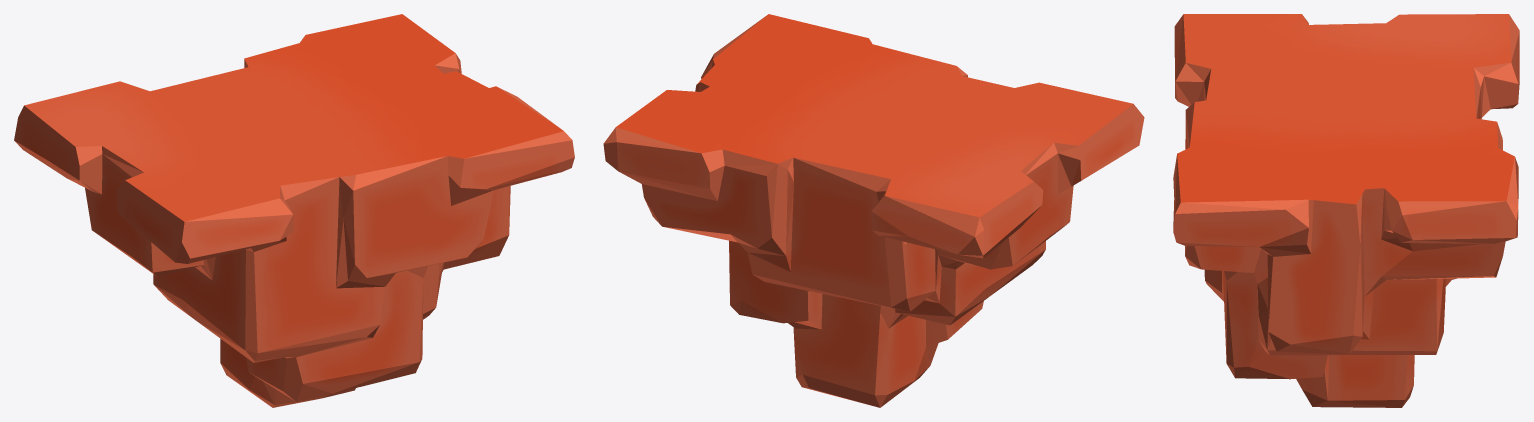
File: Platform_3_4.fbx
The picture shows the model from 3 angles, left to right: view 1: azimuth 30°, elevation 25°; view 2: azimuth 150°, elevation 25°; view 3: azimuth 270°, elevation 25°; orthographic projection. The views are drawn at different scales.
Visible parts, largest first — view 1: Cube.074; view 2: Cube.074; view 3: Cube.074.
Boxes of the visible parts, bbox=[...] form: Cube.074: bbox=[14, 14, 574, 407]; Cube.074: bbox=[603, 14, 1144, 407]; Cube.074: bbox=[1173, 14, 1519, 407].
Bounding box in the file's own units: 400 × 265 × 300.
